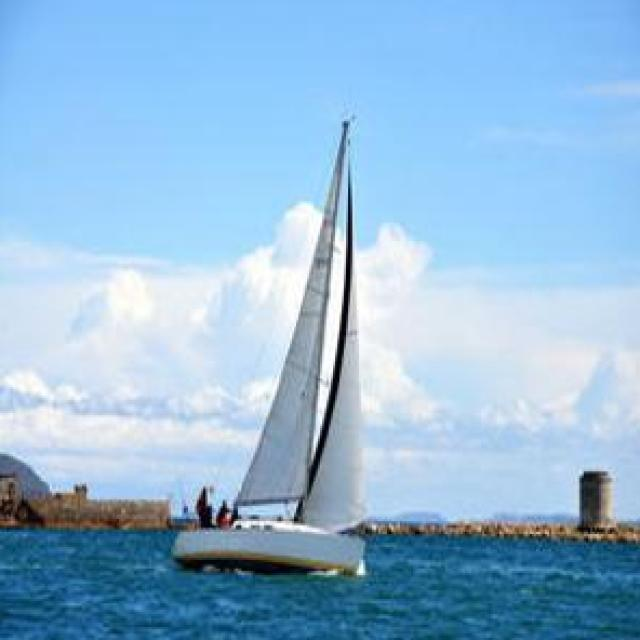sailboat: (166, 110, 377, 583)
